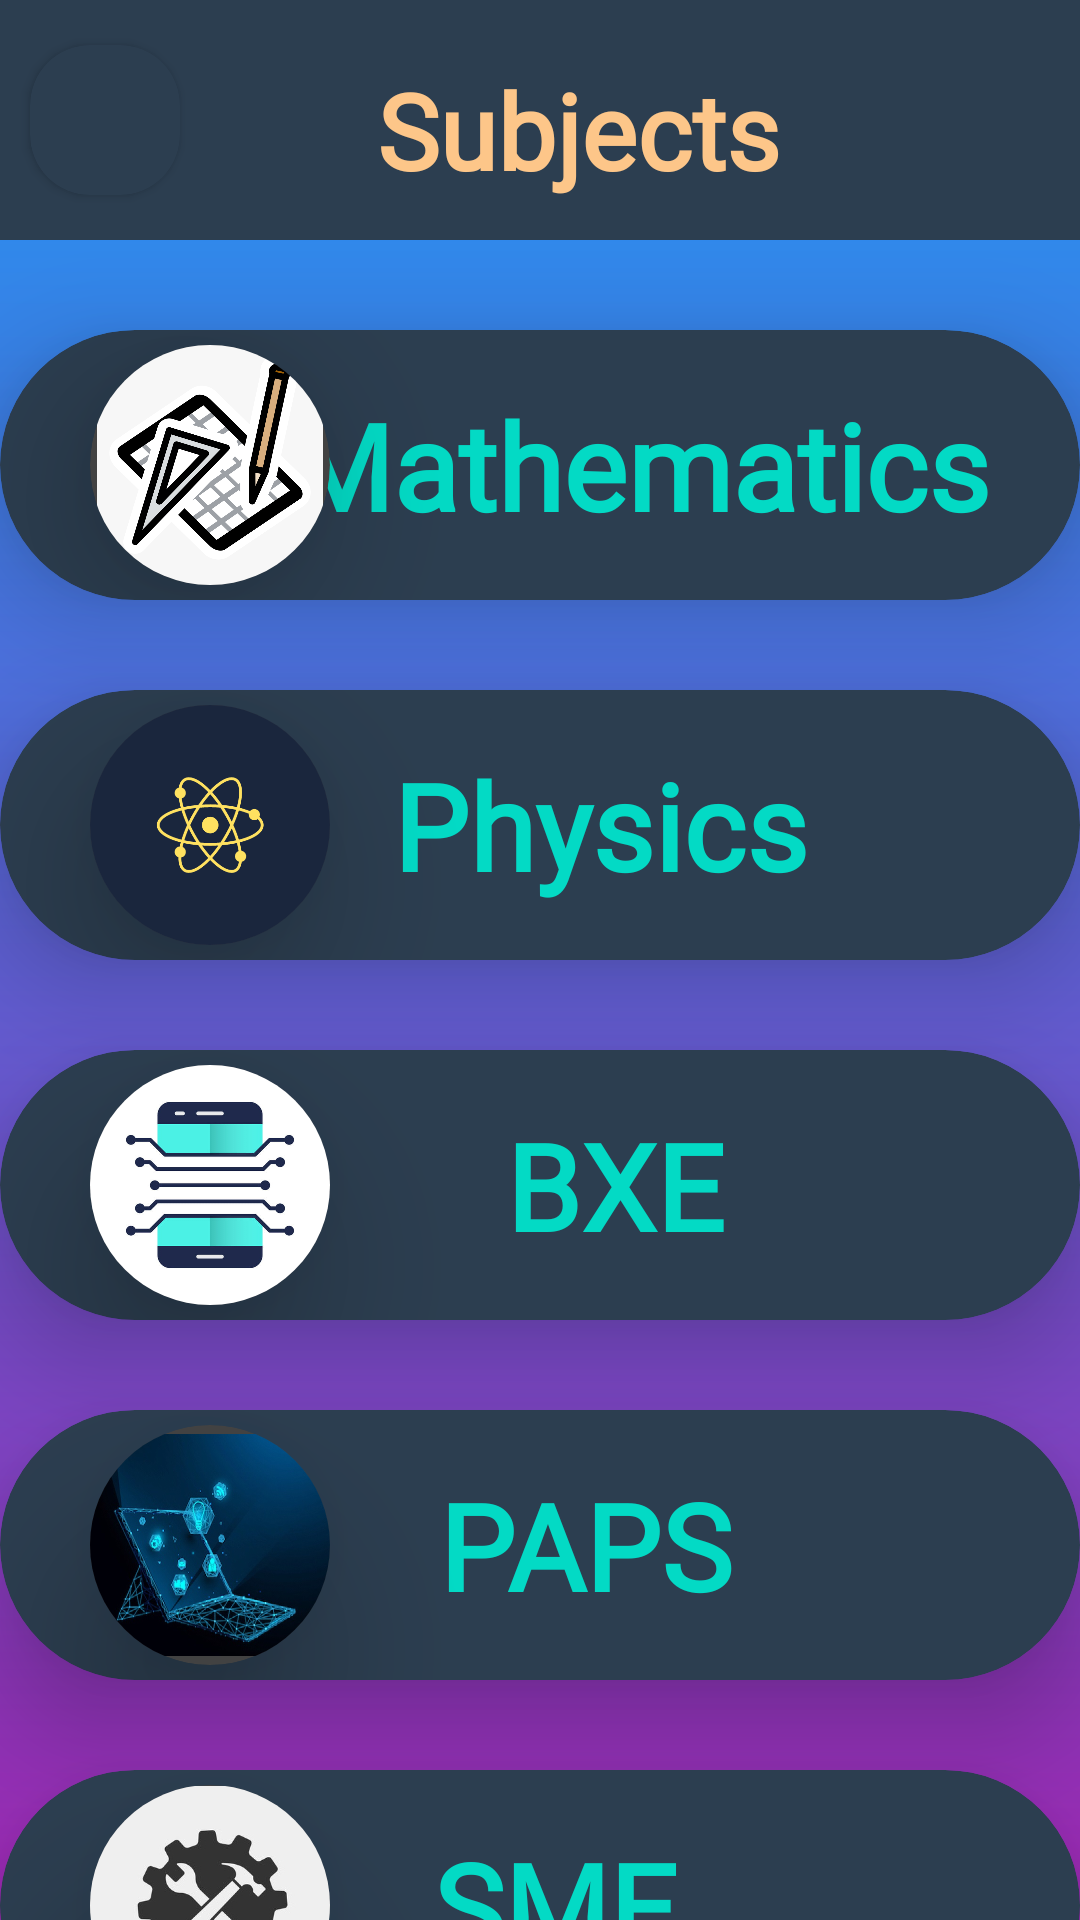

Locate icon controls on the screen. Image size 1080 × 1920, boxes as (x1, y1, x2, y2).
physcis: (90, 705, 330, 945)
